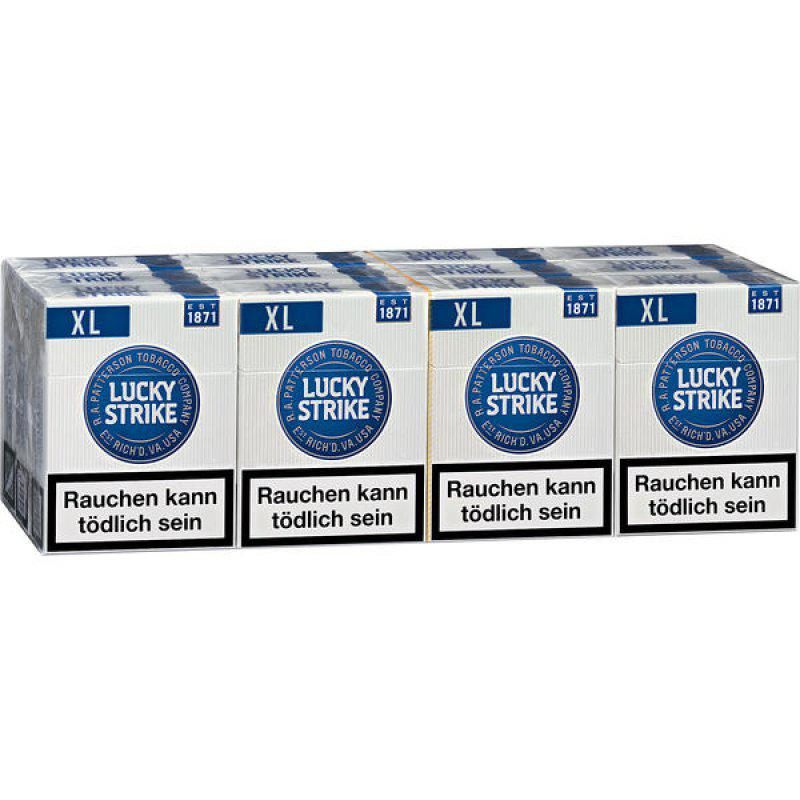lucky_strike_blue: (243, 294, 430, 547), (50, 300, 234, 547), (432, 296, 608, 536), (619, 291, 792, 529)
